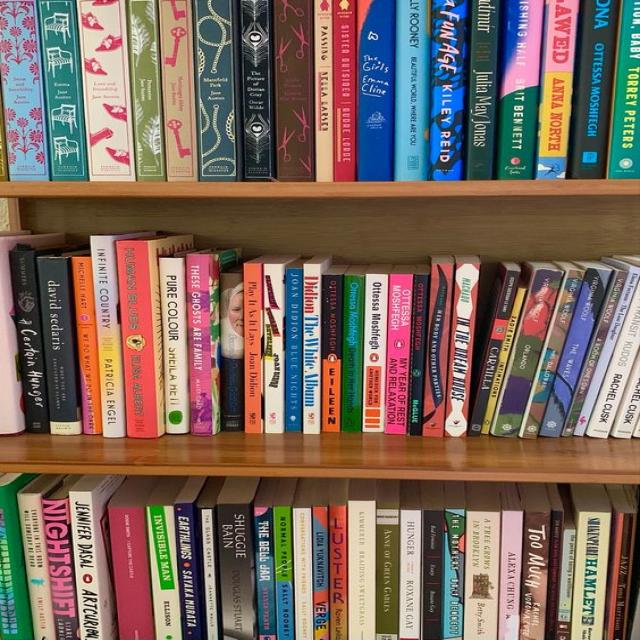book: (493, 269, 564, 439), (540, 268, 610, 438), (571, 267, 640, 437), (560, 271, 630, 437), (520, 269, 587, 440), (79, 0, 136, 182), (39, 0, 88, 182), (114, 241, 159, 438), (468, 269, 521, 436), (571, 0, 620, 179), (1, 0, 49, 182), (586, 277, 640, 438), (496, 0, 544, 179), (537, 0, 580, 180), (195, 0, 237, 181), (90, 235, 126, 438), (38, 257, 79, 434), (431, 0, 471, 180), (274, 1, 314, 180), (357, 0, 396, 181), (160, 0, 198, 181), (10, 251, 48, 431), (129, 0, 166, 181), (395, 0, 431, 181), (443, 262, 480, 437), (464, 0, 500, 179), (107, 506, 155, 640), (71, 256, 103, 435), (17, 495, 56, 640), (158, 257, 190, 433), (422, 262, 454, 436), (571, 511, 613, 640), (41, 498, 79, 640), (610, 0, 640, 179), (242, 0, 272, 177), (219, 503, 256, 640), (69, 491, 103, 640), (186, 253, 213, 437), (148, 505, 182, 639), (385, 275, 412, 434), (519, 511, 551, 640), (347, 500, 375, 640), (220, 272, 244, 432), (466, 510, 495, 640), (607, 512, 636, 640), (335, 0, 355, 182), (175, 504, 201, 640), (375, 509, 401, 640), (264, 264, 284, 433), (315, 0, 333, 182), (243, 262, 262, 432), (498, 511, 523, 640), (198, 506, 222, 640), (409, 274, 428, 435), (399, 508, 422, 640), (285, 268, 303, 432), (255, 506, 276, 640), (343, 275, 361, 431), (365, 276, 383, 432), (293, 507, 314, 640), (328, 503, 348, 640), (303, 264, 319, 433), (324, 275, 341, 430), (423, 510, 443, 640), (276, 505, 295, 640), (313, 505, 331, 640), (558, 530, 577, 640), (445, 510, 461, 640)
